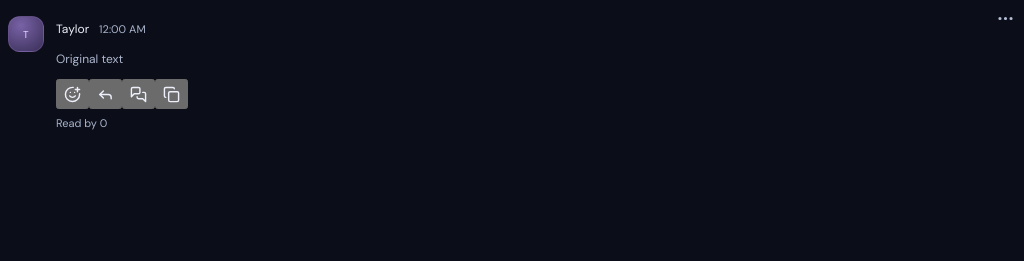
Test: copies text and stable deep links with real success/failure feedback
Click the heading named "Message actions": [1005, 18] box top-left (996, 8), bottom-right (1014, 28)
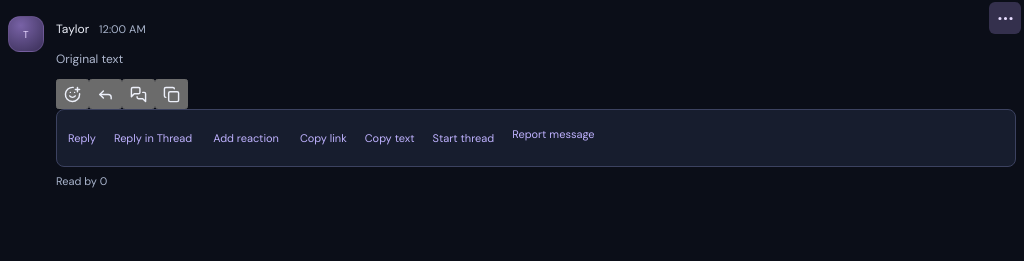
Click the button "Copy text": [390, 138] box top-left (360, 116), bottom-right (420, 160)
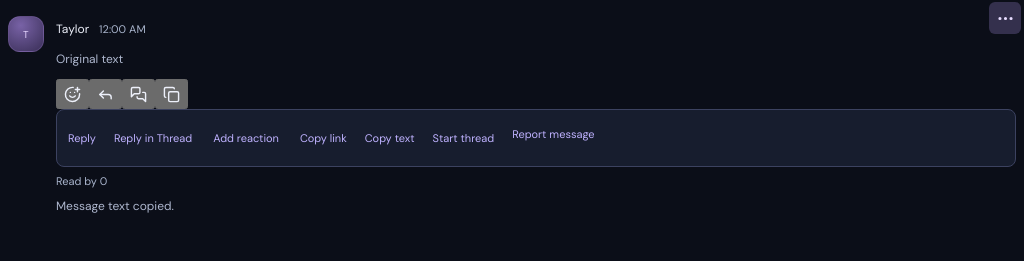
Check: the text "Message text copied." is shown, box top-left (56, 198), bottom-right (174, 214)
Click the button "Copy link": [323, 138] box top-left (295, 116), bottom-right (352, 160)
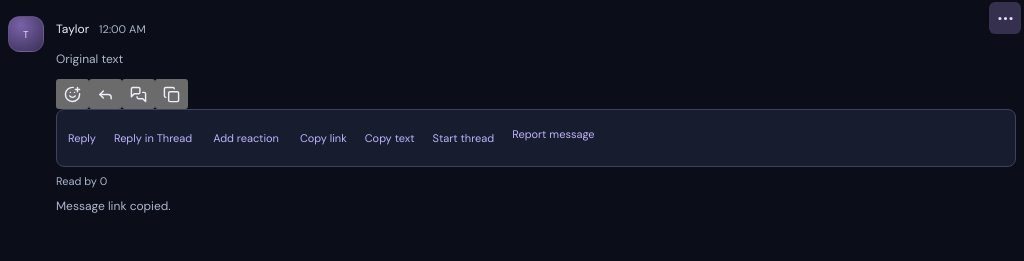
Check: the text "Message link copied." is shown, box top-left (56, 198), bottom-right (171, 214)
Click the button "Copy text": [390, 138] box top-left (360, 116), bottom-right (420, 160)
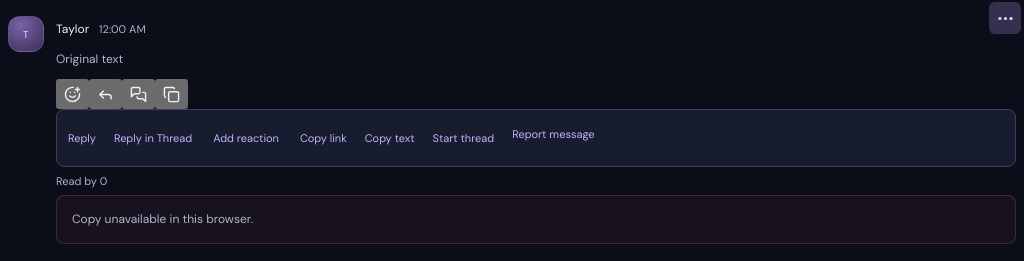
Check: the message "Copy unavailable in this browser." is shown, box top-left (56, 195), bottom-right (1016, 244)
